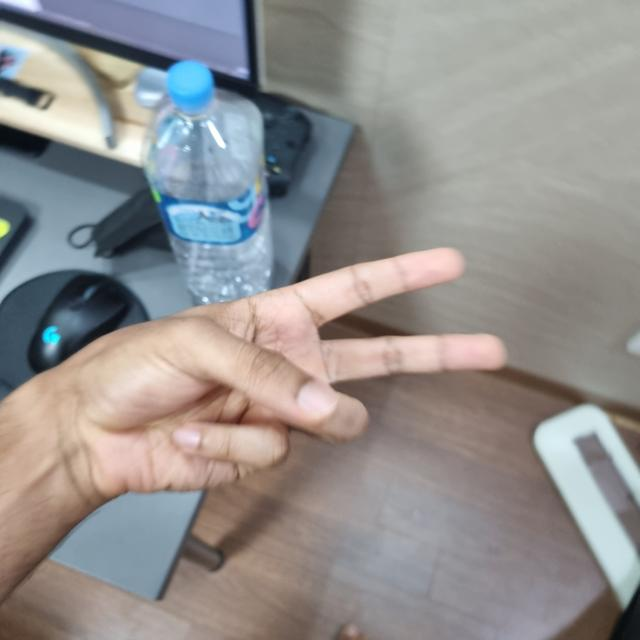Scissors: (0, 253, 626, 639)
